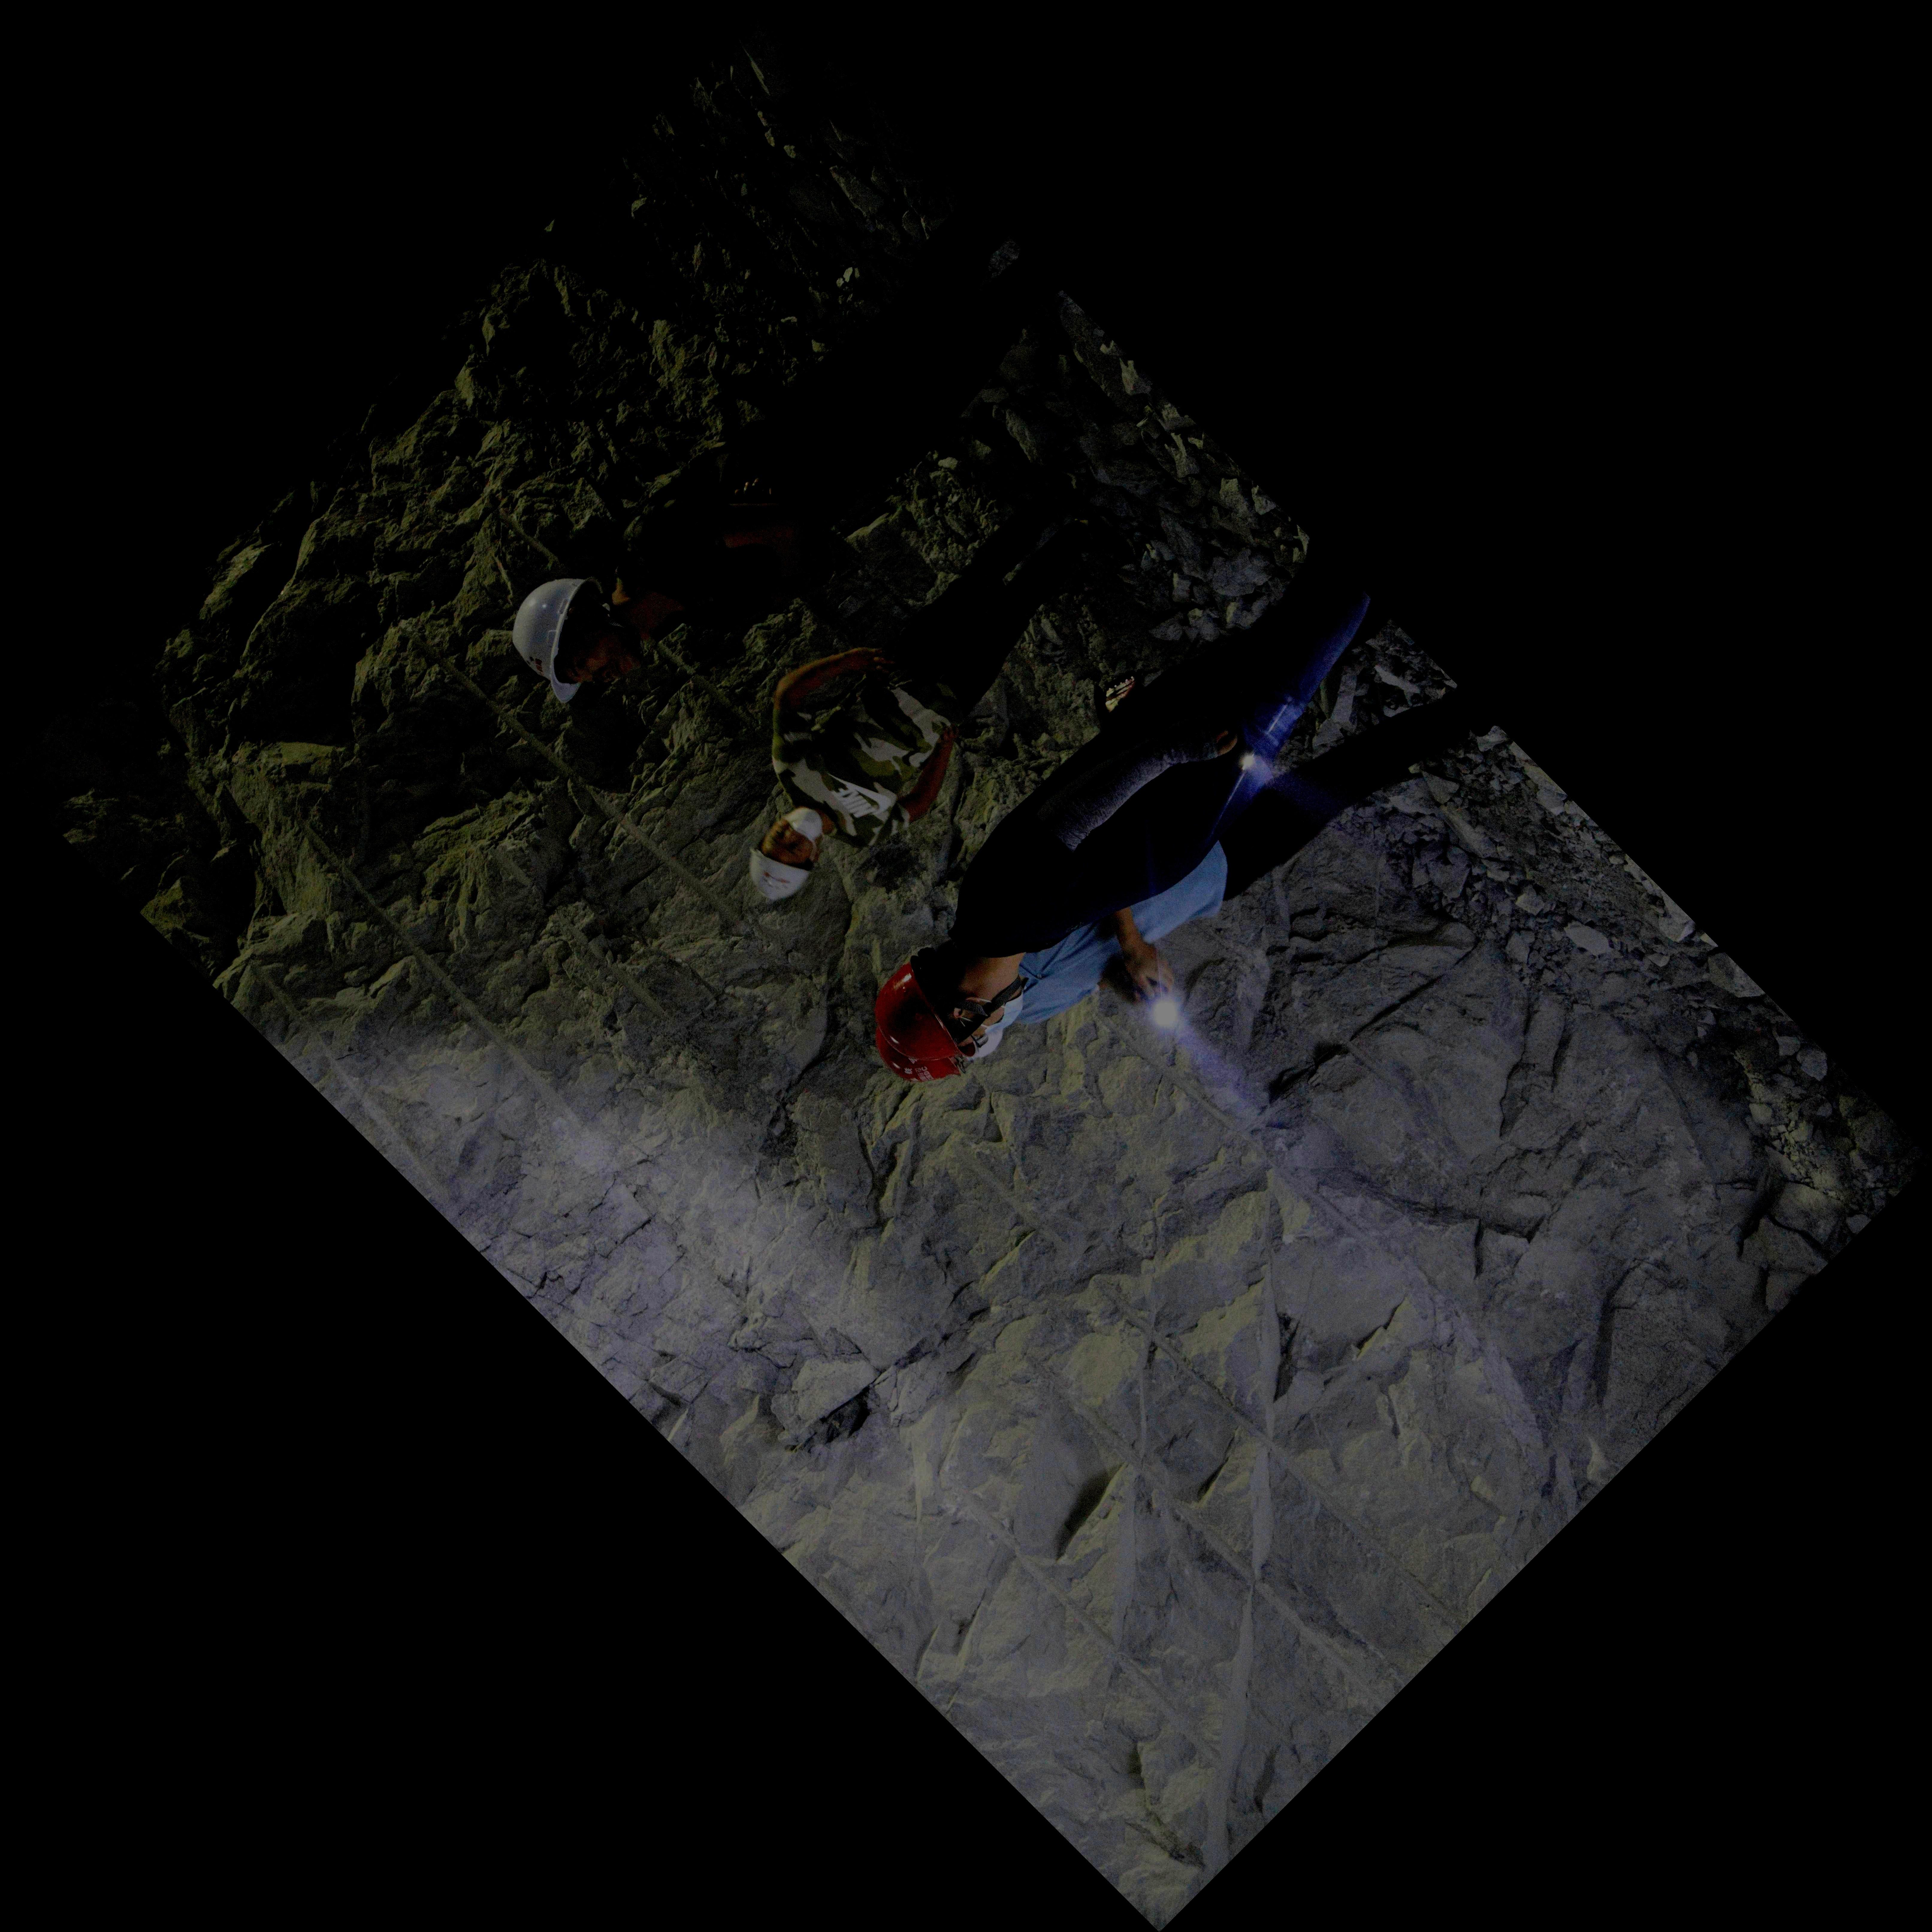helmet: (874, 938, 1024, 1060), (511, 575, 644, 704), (748, 807, 823, 902), (876, 1028, 1003, 1083)
